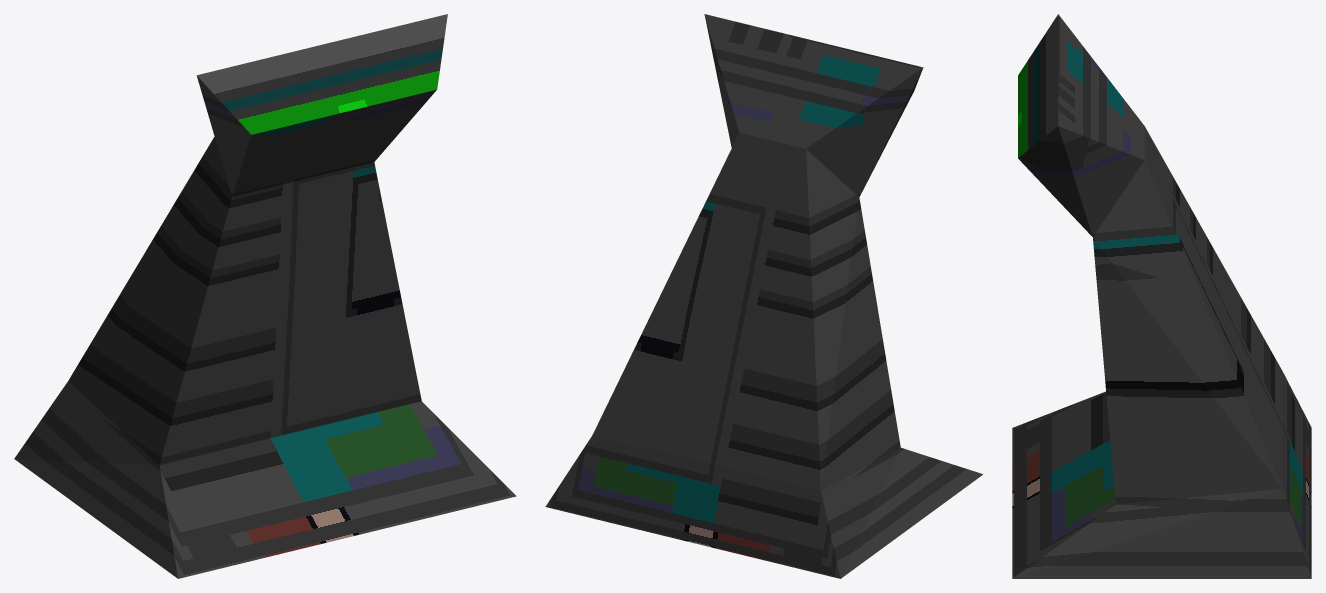
3 views of the same model, side by side, from view 1: azimuth 30°, elevation 25°; view 2: azimuth 150°, elevation 25°; view 3: azimuth 270°, elevation 25° (orthographic). The views are drawn at different scales.
Visible parts, largest first — view 1: ss3d_26_scope; view 2: ss3d_26_scope; view 3: ss3d_26_scope.
Part boxes in pixels (left/top/right/bottom): ss3d_26_scope: left=14, top=14, right=516, bottom=578; ss3d_26_scope: left=545, top=14, right=982, bottom=578; ss3d_26_scope: left=1012, top=14, right=1311, bottom=578.
Size of the model in its own units: 0.218 by 0.2918 by 0.1828.
Materials: 1 (1 with a texture image).
